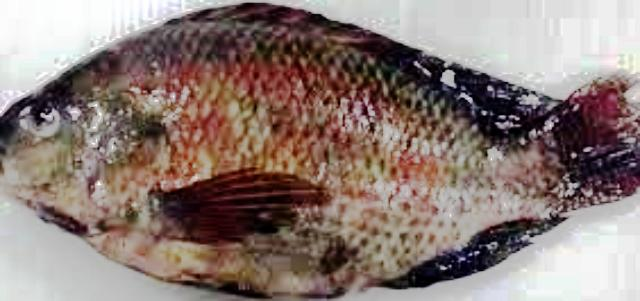Tilapia Lake Virus -TiLV-: (0, 2, 638, 297), (0, 4, 640, 296)
